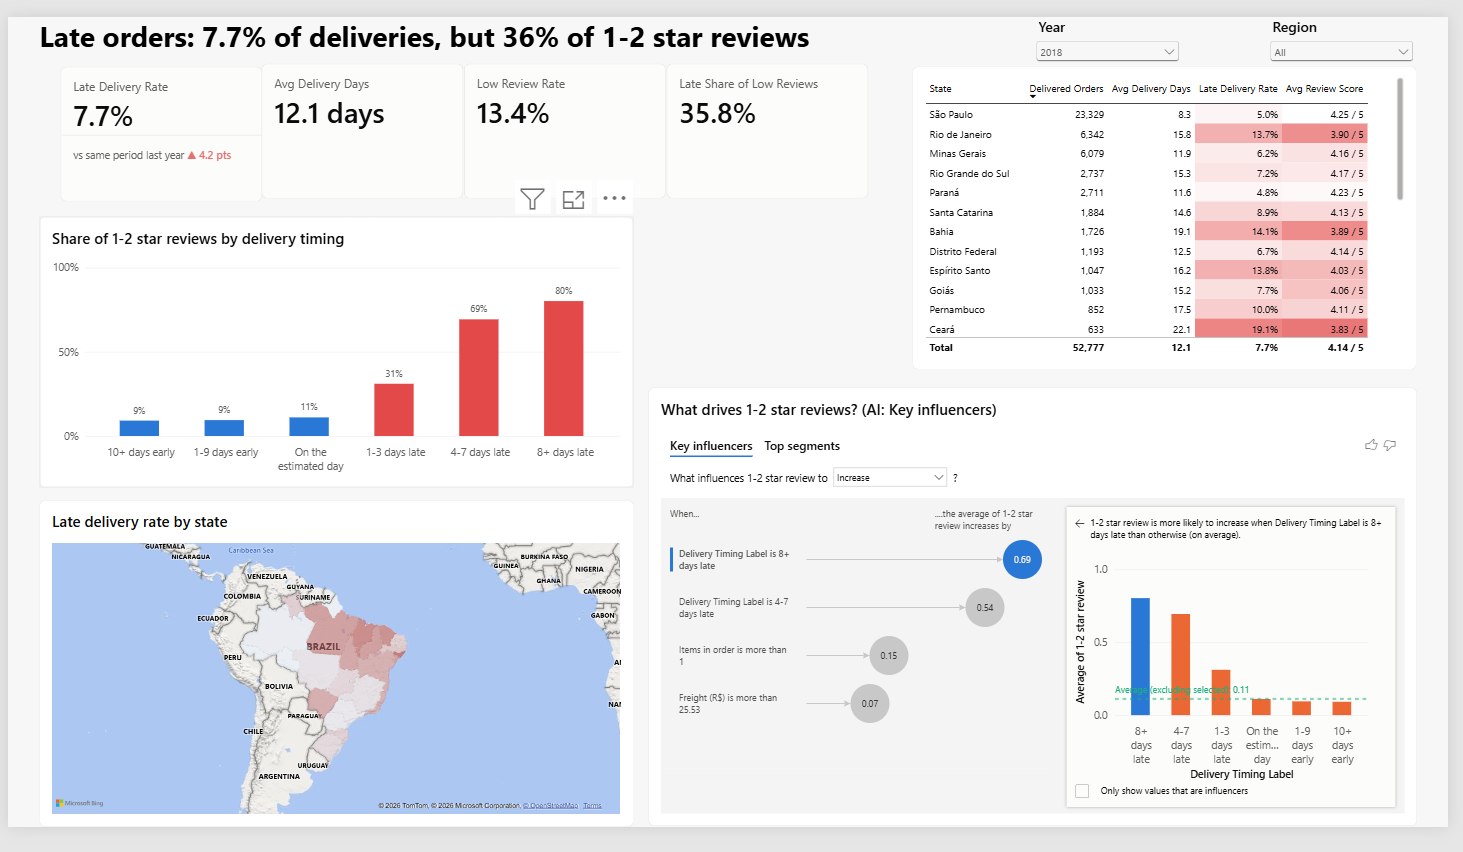

The page's visual inventory and layout, read from the dashboard file:
{"tool":"powerbi","page":{"name":"Page 2","canvas":[1920,1080],"ordinal":1},"visuals":[{"type":"slicer","fields":{"Values":["dim_sellers.seller_region"]},"box":[1678,0,200,66],"z":0},{"type":"slicer","fields":{"Values":["dim_date.year"]},"box":[1366,0,200,66],"z":1000},{"type":"cardVisual","fields":{"Data":["Measures (2).Late Delivery Rate"]},"box":[69.5,66,269.4,180.8],"z":2000},{"type":"cardVisual","fields":{"Data":["Measures (2).Avg Delivery Days"]},"box":[338.9,62.6,269.4,180.8],"z":3000},{"type":"cardVisual","fields":{"Data":["Measures (2).Low Review Rate"]},"box":[608.3,62.6,269.4,180.8],"z":4000},{"type":"cardVisual","fields":{"Data":["Measures (2).Late Share of Low Reviews"]},"box":[877.7,62.6,269.4,180.8],"z":5000},{"type":"columnChart","title":"Share of 1-2 star reviews by delivery timing","fields":{"Category":["fact_orders.Delivery Timing Label"],"Y":["Measures (2).Low Review Rate"]},"box":[42,266,792,362],"z":6000},{"type":"filledMap","title":"Late delivery rate by state","fields":{"Category":["dim_states.map_location"]},"box":[42,644,792,436],"z":7000},{"type":"tableEx","fields":{"Values":["dim_states.state_name","Measures (2).Delivered Orders","Measures (2).Avg Delivery Days","Measures (2).Late Delivery Rate","Measures (2).Avg Review Score"]},"box":[1206,66,672,404],"z":8000},{"type":"keyDriversVisual","title":"What drives 1-2 star reviews? (AI: Key influencers)","fields":{"ExplainBy":["fact_orders.Delivery Timing Label","dim_states.region","fact_orders.primary_payment_type","Sum(fact_orders.item_count)","Sum(fact_orders.freight_value)"],"Target":["fact_orders.is_low_review"]},"box":[853.4,494.7,1024.8,584.8],"z":9000},{"type":"textbox","box":[42,0,1288,126],"z":10000}]}

Visuals, with their boxes on the page's 1920x1080 design canvas (x1, y1, x2, y2). These are canvas units, not pixel positions in the 1463x852 screenshot, which may show the page scaled, cropped or inside an application window:
slicer - dim_sellers.seller_region: box=[1678, 0, 1878, 66]
slicer - dim_date.year: box=[1366, 0, 1566, 66]
cardVisual - Measures (2).Late Delivery Rate: box=[70, 66, 339, 247]
cardVisual - Measures (2).Avg Delivery Days: box=[339, 63, 608, 243]
cardVisual - Measures (2).Low Review Rate: box=[608, 63, 878, 243]
cardVisual - Measures (2).Late Share of Low Reviews: box=[878, 63, 1147, 243]
"Share of 1-2 star reviews by delivery timing" columnChart: box=[42, 266, 834, 628]
"Late delivery rate by state" filledMap: box=[42, 644, 834, 1080]
tableEx - dim_states.state_name x Measures (2).Delivered Orders: box=[1206, 66, 1878, 470]
"What drives 1-2 star reviews? (AI: Key influencers)" keyDriversVisual: box=[853, 495, 1878, 1080]
textbox: box=[42, 0, 1330, 126]
